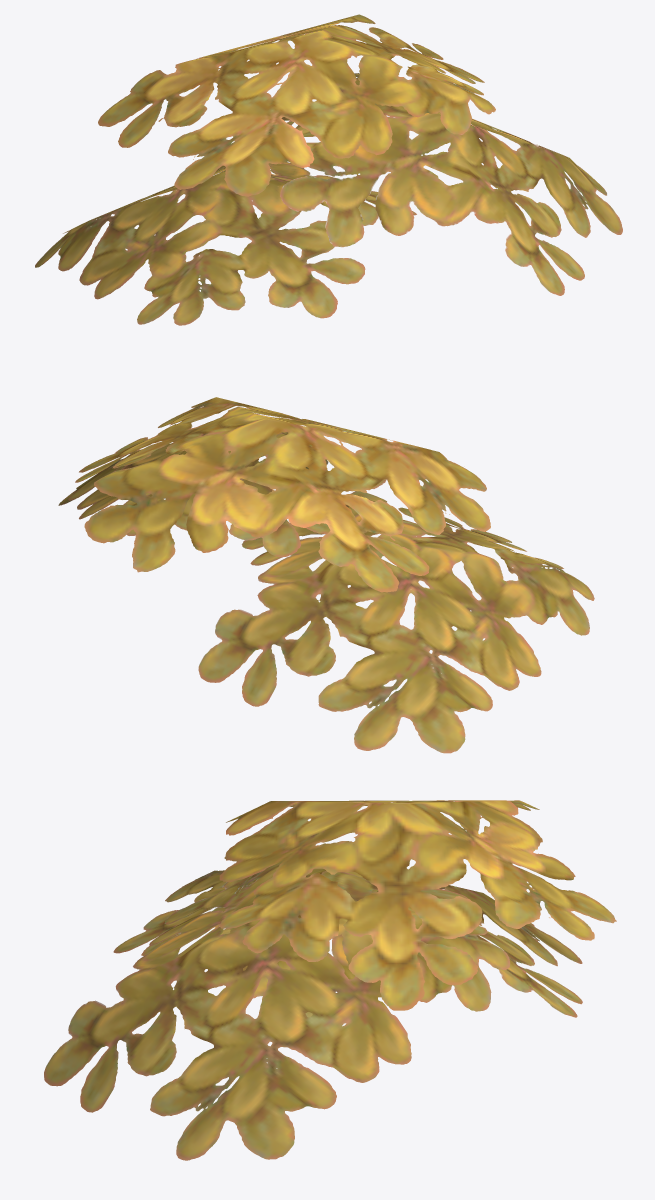
Rendered from Map_08_grass01.FBX.
3 renders of one model, top to bottom at view 1: azimuth 30°, elevation 25°; view 2: azimuth 150°, elevation 25°; view 3: azimuth 270°, elevation 25°, orthographic. The views are drawn at different scales.
Parts seen in each view (by area): view 1: Map_08_grass01; view 2: Map_08_grass01; view 3: Map_08_grass01.
Boxes of the visible parts, x1=… form: Map_08_grass01: x1=35, y1=14, x2=622, y2=325; Map_08_grass01: x1=58, y1=397, x2=594, y2=753; Map_08_grass01: x1=44, y1=800, x2=616, y2=1160.
Bounding box in the file's own units: 113 × 47.16 × 97.78.
